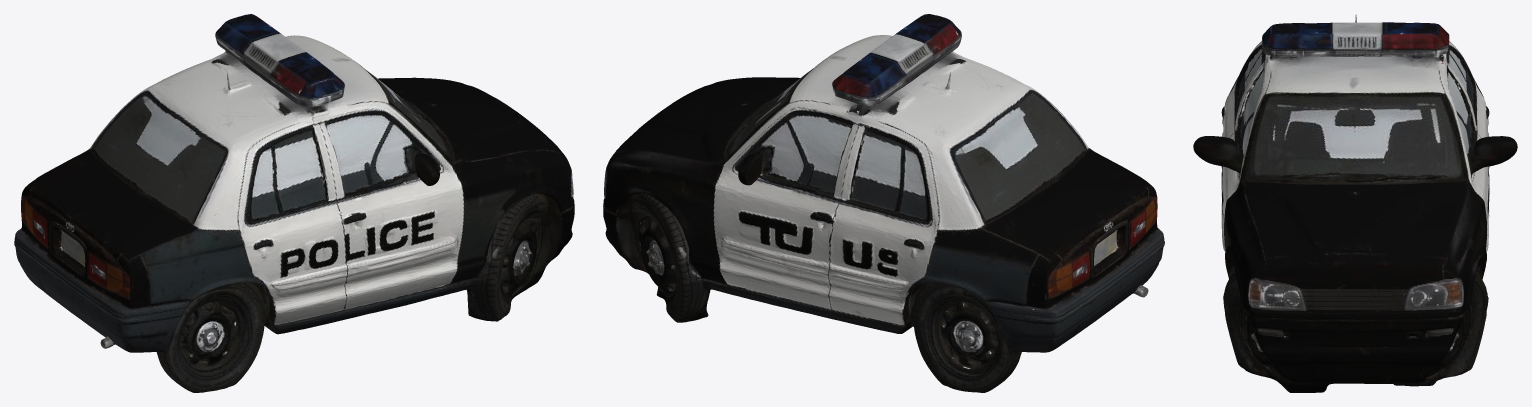
File: car_police.glb
3 renders of one model, left to right at view 1: azimuth 30°, elevation 25°; view 2: azimuth 150°, elevation 25°; view 3: azimuth 270°, elevation 25°, orthographic. The views are drawn at different scales.
Visible parts, largest first — view 1: world; view 2: world; view 3: world.
Boxes of the visible parts, <box> form: world: <box>14,14,574,392</box>; world: <box>603,14,1164,392</box>; world: <box>1193,14,1517,392</box>.
Bounding box in the file's own units: 2 × 1.13 × 1.23.
1 material, 1 textured.
